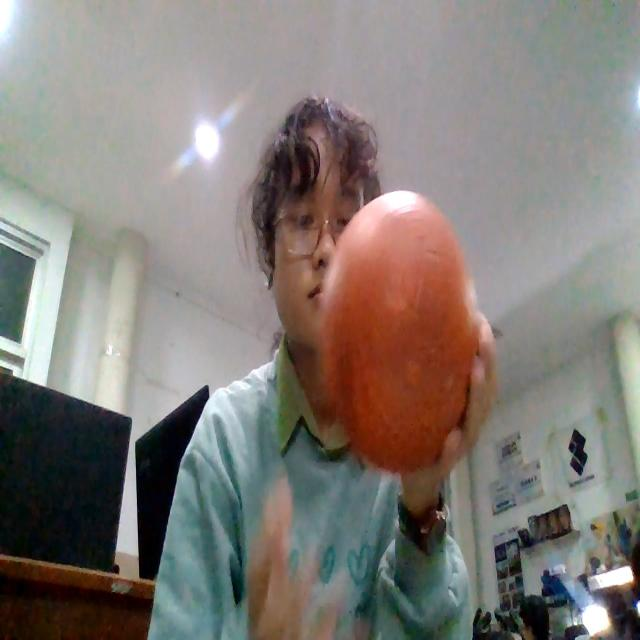ball: (328, 197, 474, 464)
